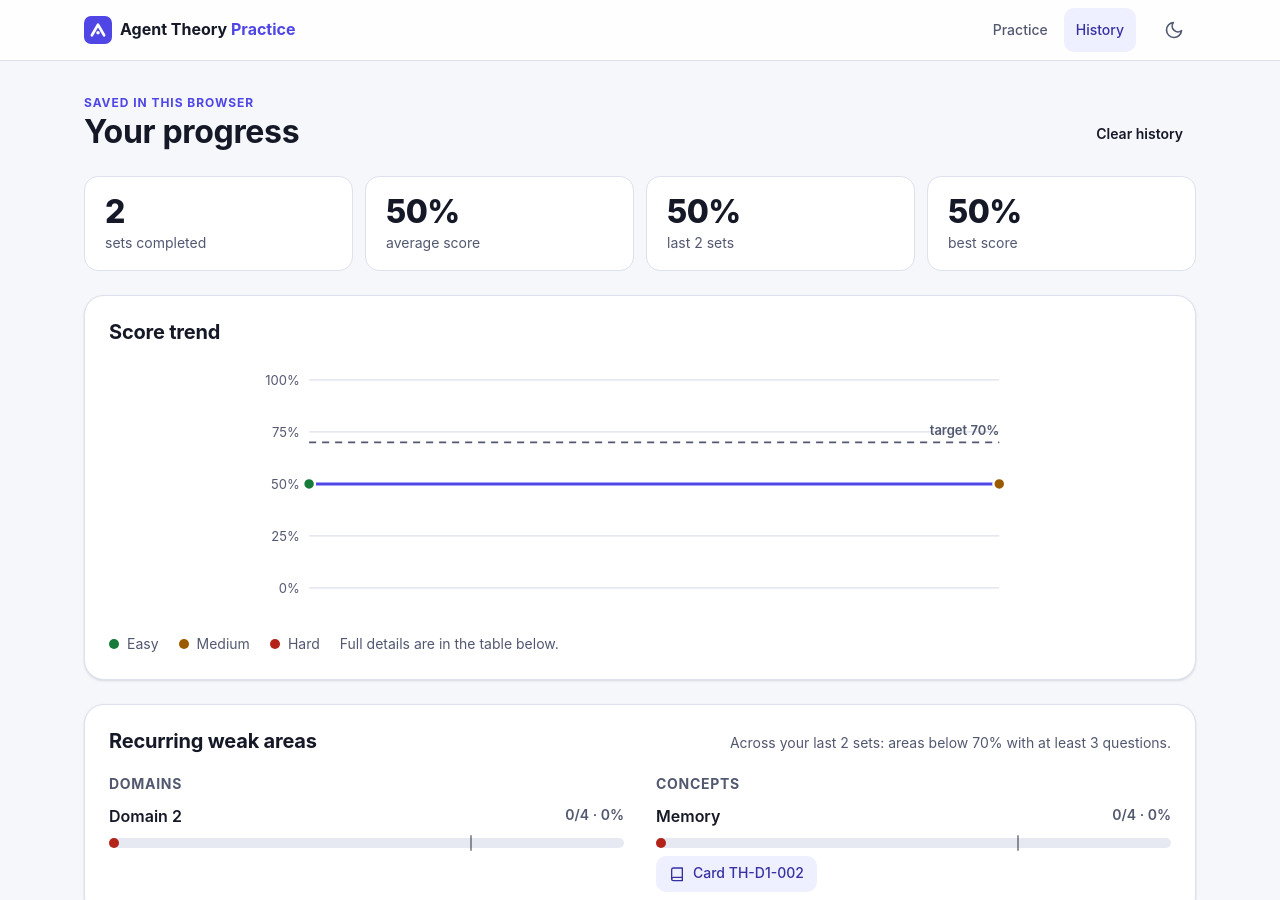
Test case: HistoryPage › clears history only after confirmation
Click the button "Clear history". click: (1140, 134)
box: top-left (1083, 116), bottom-right (1196, 152)
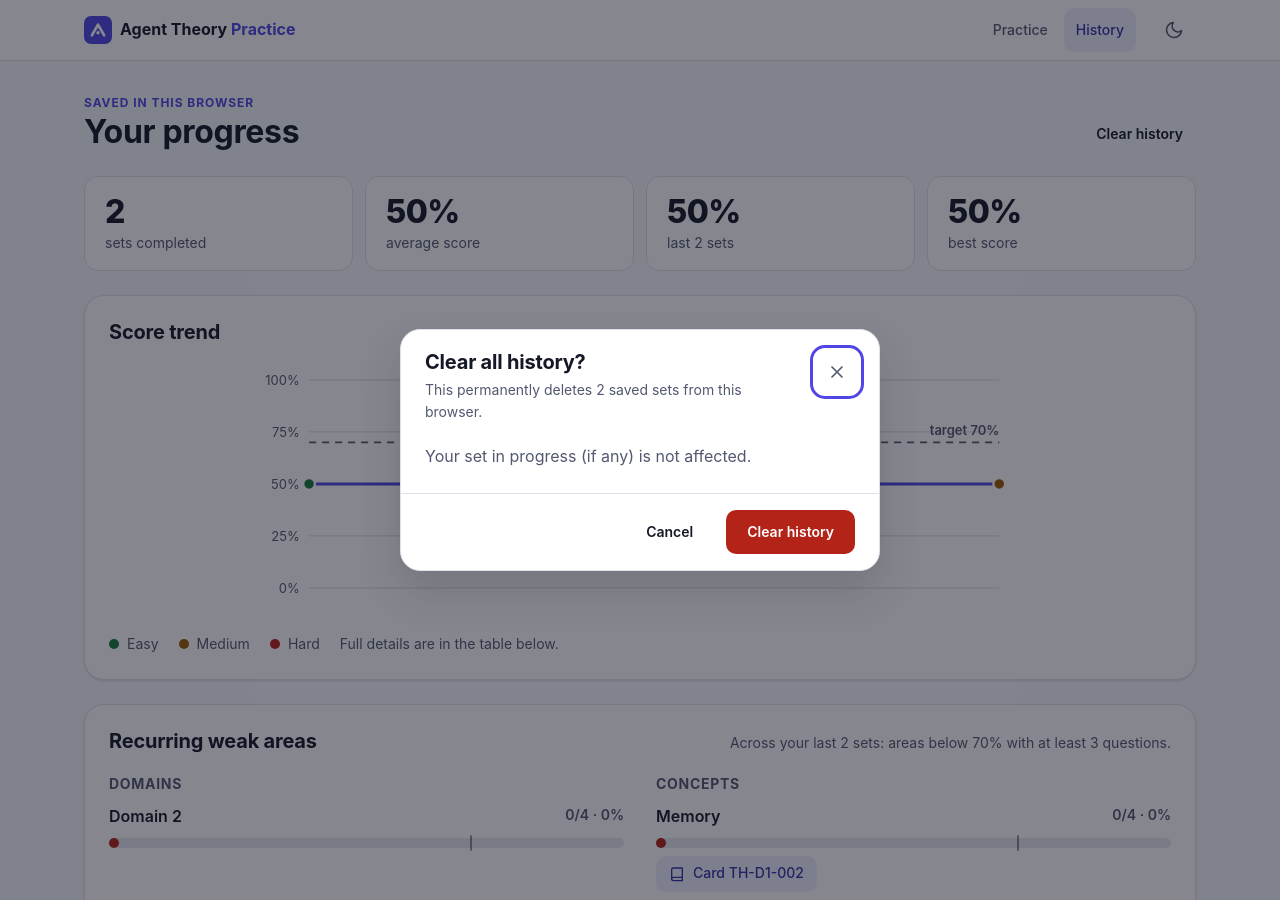
expect the dialog "Clear all history" shows "permanently deletes 2 saved sets": met, box top-left (425, 381), bottom-right (742, 420)
Click the button "Cancel". click: (670, 532)
box: top-left (625, 510), bottom-right (714, 554)
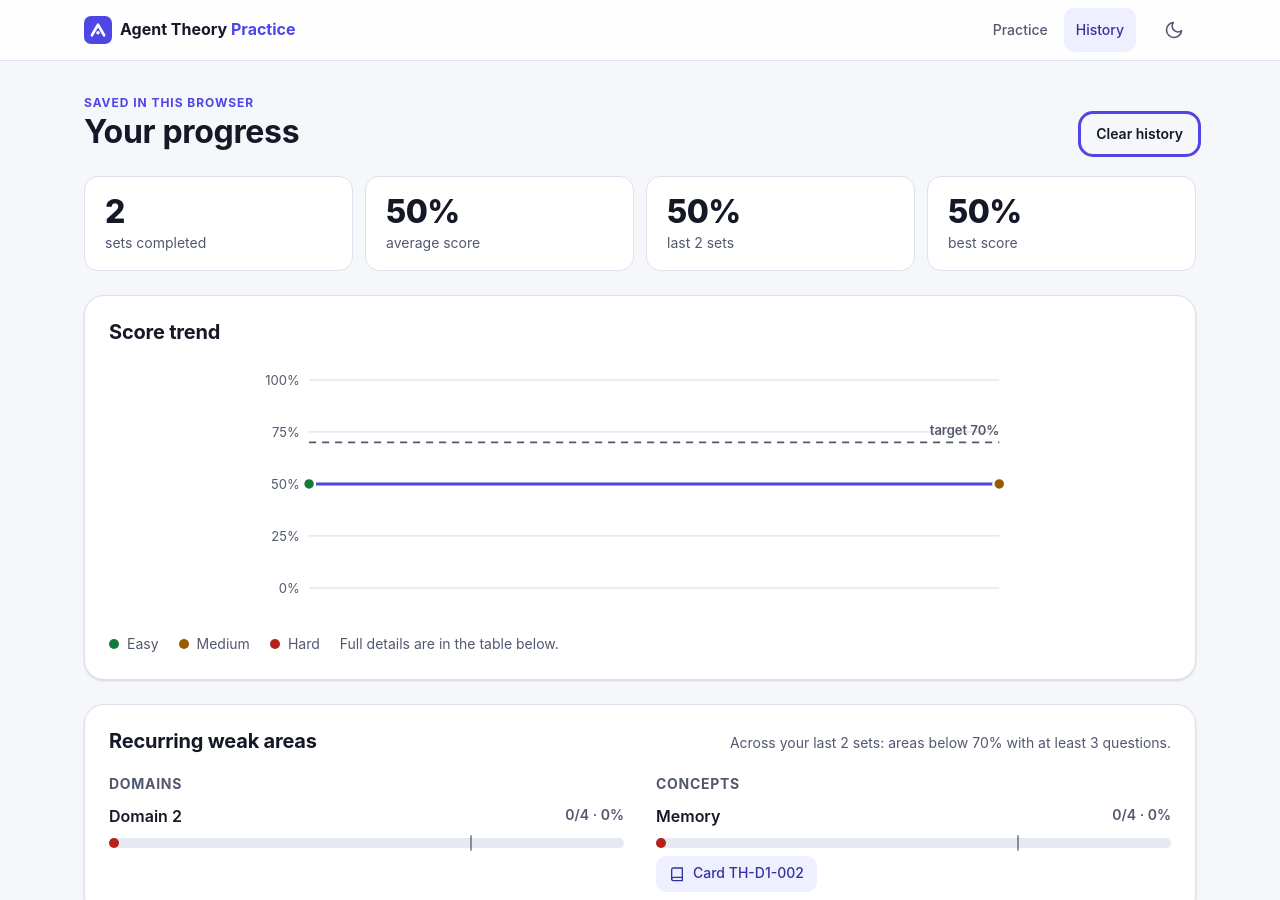
Click the button "Clear history". click: (1140, 134)
box: top-left (1083, 116), bottom-right (1196, 152)
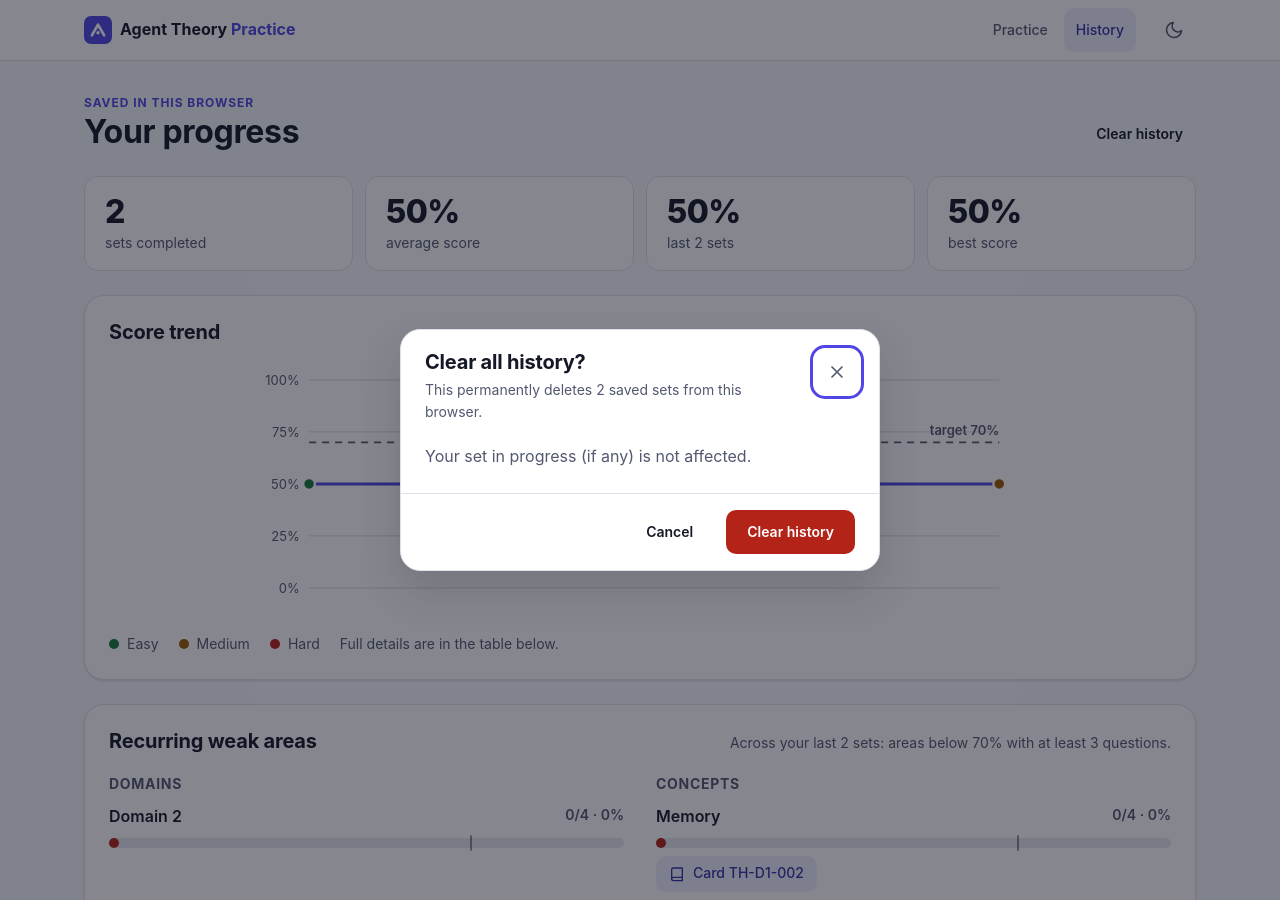
Click the button "Clear history". click: (791, 532)
box: top-left (726, 510), bottom-right (855, 554)
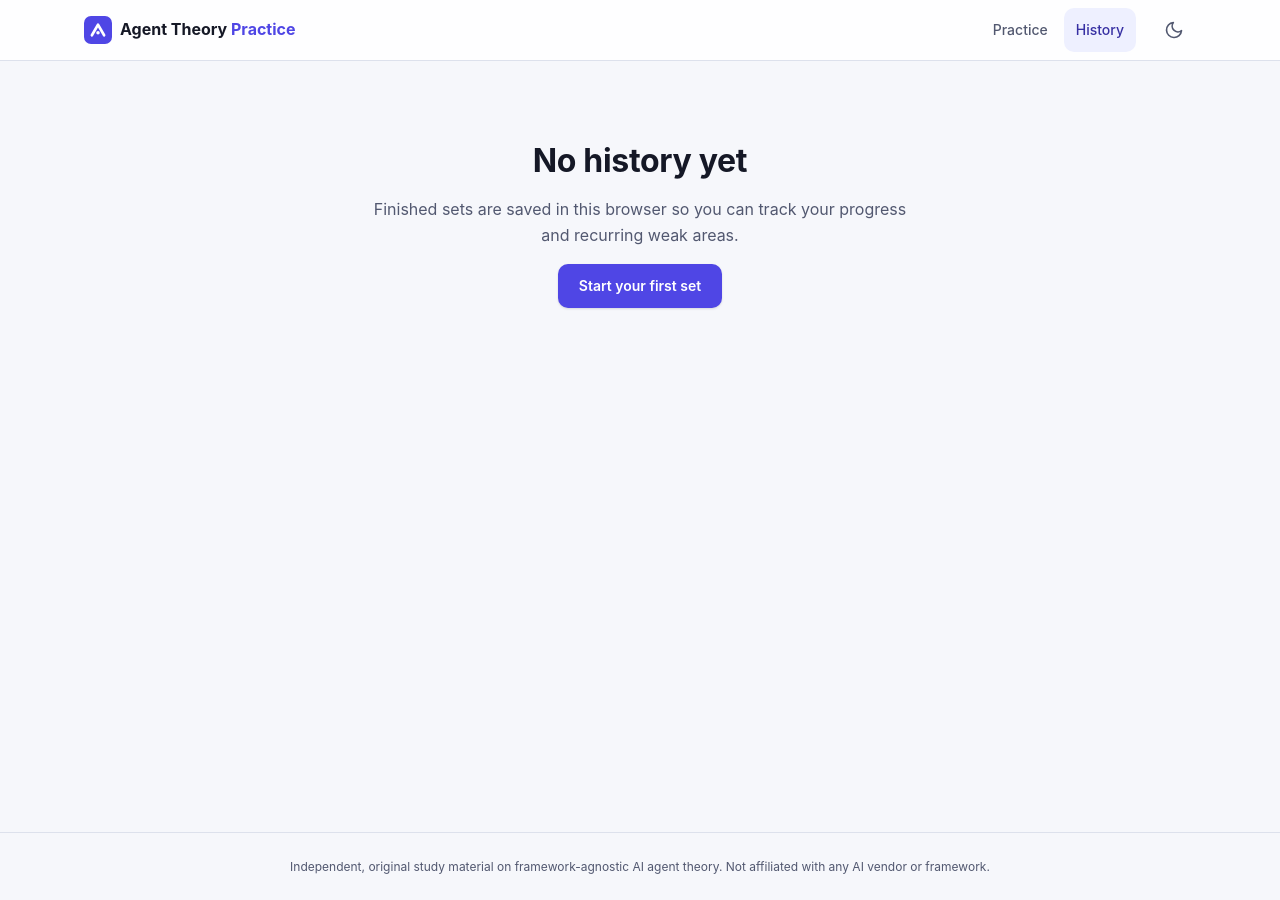
expect the heading "No history yet" is shown: met, box top-left (533, 141), bottom-right (747, 181)
